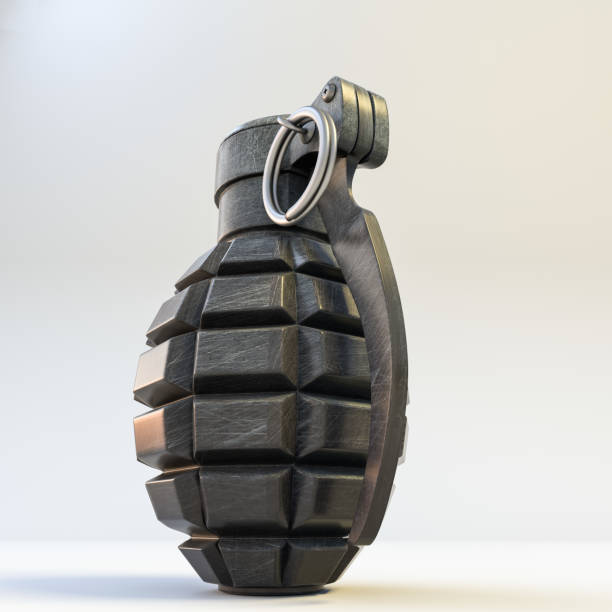e1: (134, 76, 410, 592)
